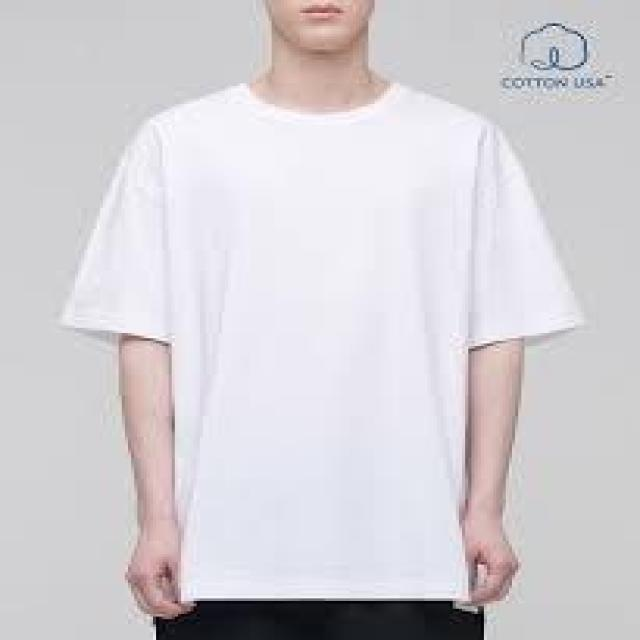Tshirt: (50, 73, 590, 609)
